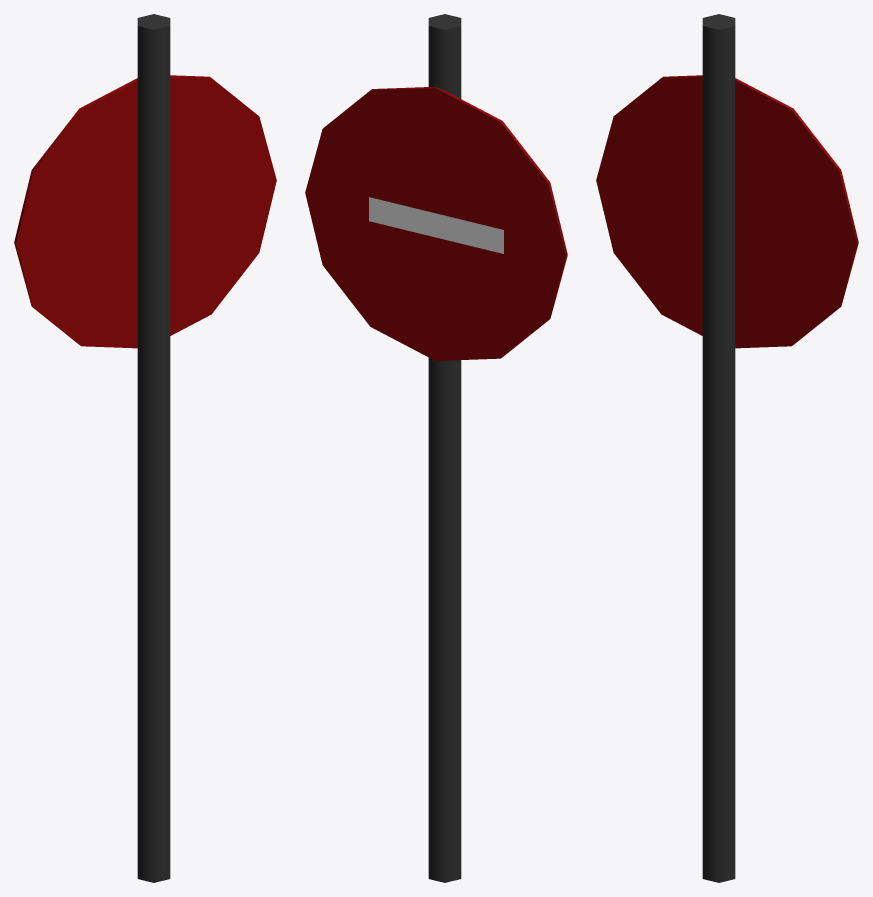
Rendered from No entry road sign.FBX.
The picture shows the model from 3 angles, left to right: view 1: azimuth 30°, elevation 25°; view 2: azimuth 150°, elevation 25°; view 3: azimuth 330°, elevation 25°; orthographic projection.
Visible parts, largest first — view 1: Cylinder035; view 2: Cylinder035; view 3: Cylinder035.
Part boxes in pixels (x1,y1,x2,y2): Cylinder035: [14, 14, 276, 882]; Cylinder035: [305, 14, 567, 882]; Cylinder035: [596, 14, 858, 882].
Size of the model in its own units: 31.5 by 98.43 by 3.67.
